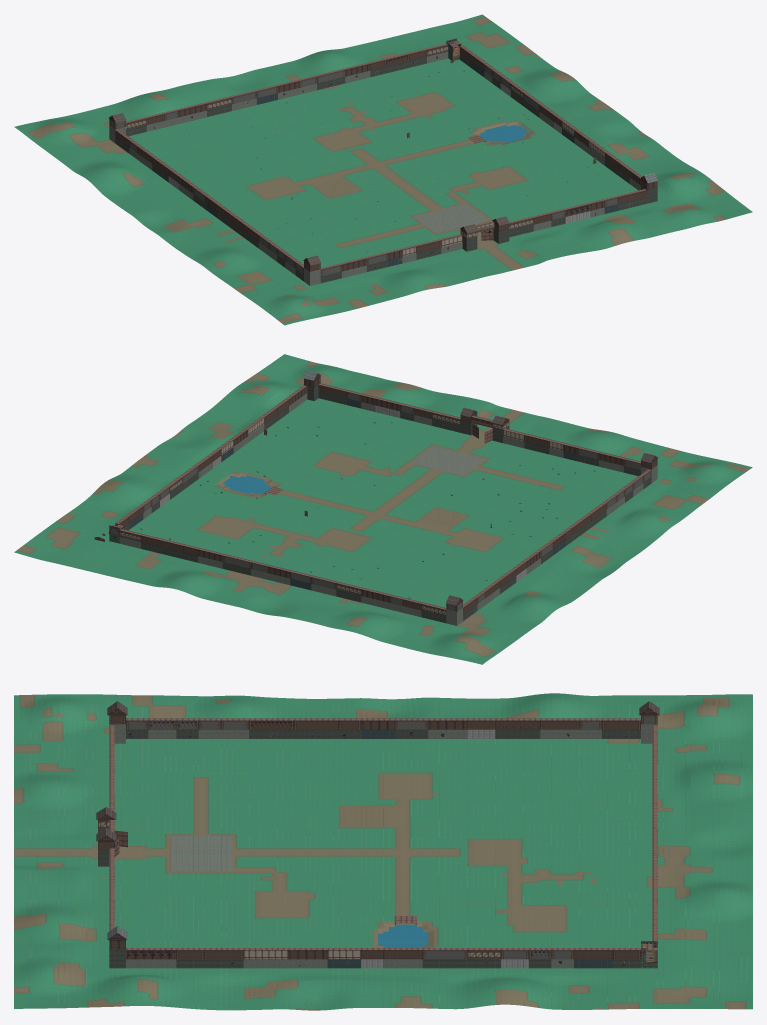
File: outpost.glb
3 renders of one model, top to bottom at view 1: azimuth 30°, elevation 25°; view 2: azimuth 150°, elevation 25°; view 3: azimuth 270°, elevation 25°, orthographic. The views are drawn at different scales.
Parts seen in each view (by area): view 1: crocotile_scene; view 2: crocotile_scene; view 3: crocotile_scene.
Part boxes in pixels (x1,y1,x2,y2): crocotile_scene: (14,14,752,325); crocotile_scene: (14,354,752,664); crocotile_scene: (14,693,752,1010).
Size of the model in its own units: 132 by 8.07 by 132.
10 materials, 10 textured.
